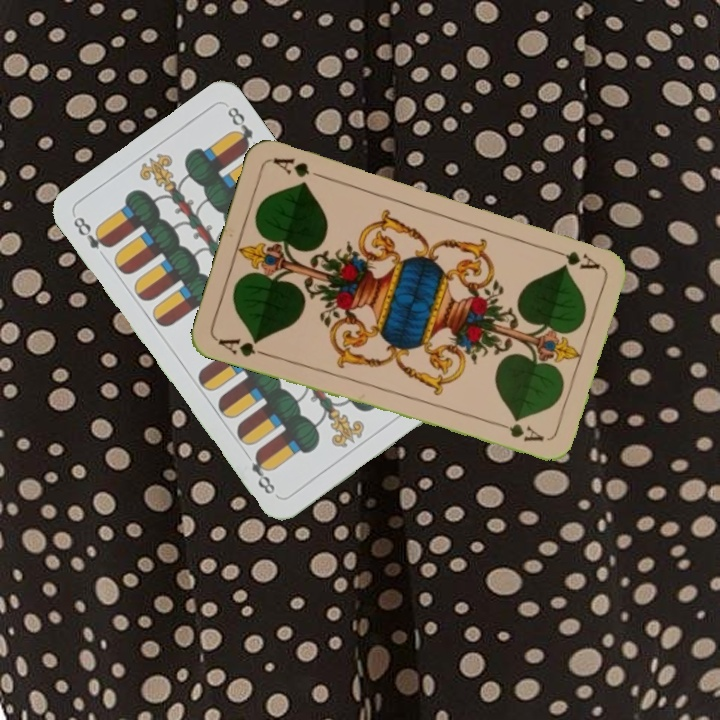E8: (69, 212, 114, 252)
GA: (545, 244, 603, 272), (214, 334, 272, 360)
